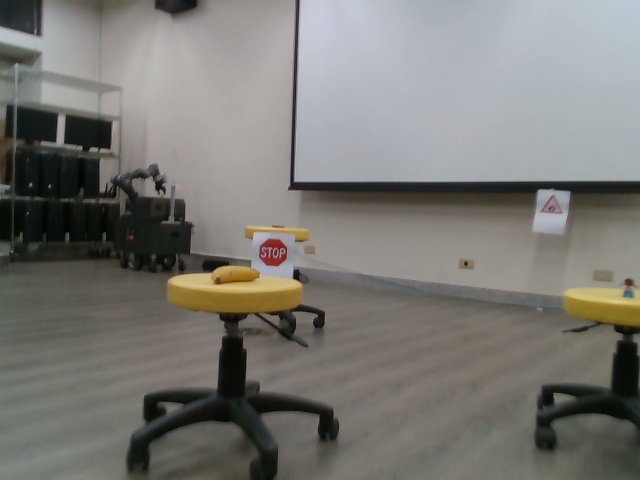banana: (206, 263, 264, 285)
stop: (254, 233, 294, 271)
